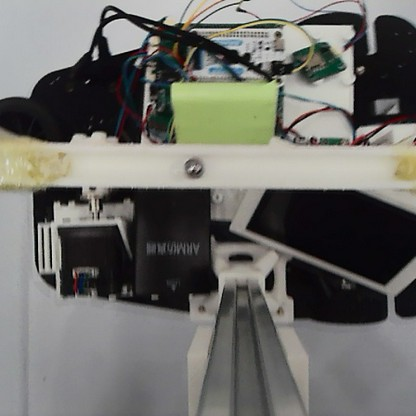ironball: (182, 155, 205, 180)
